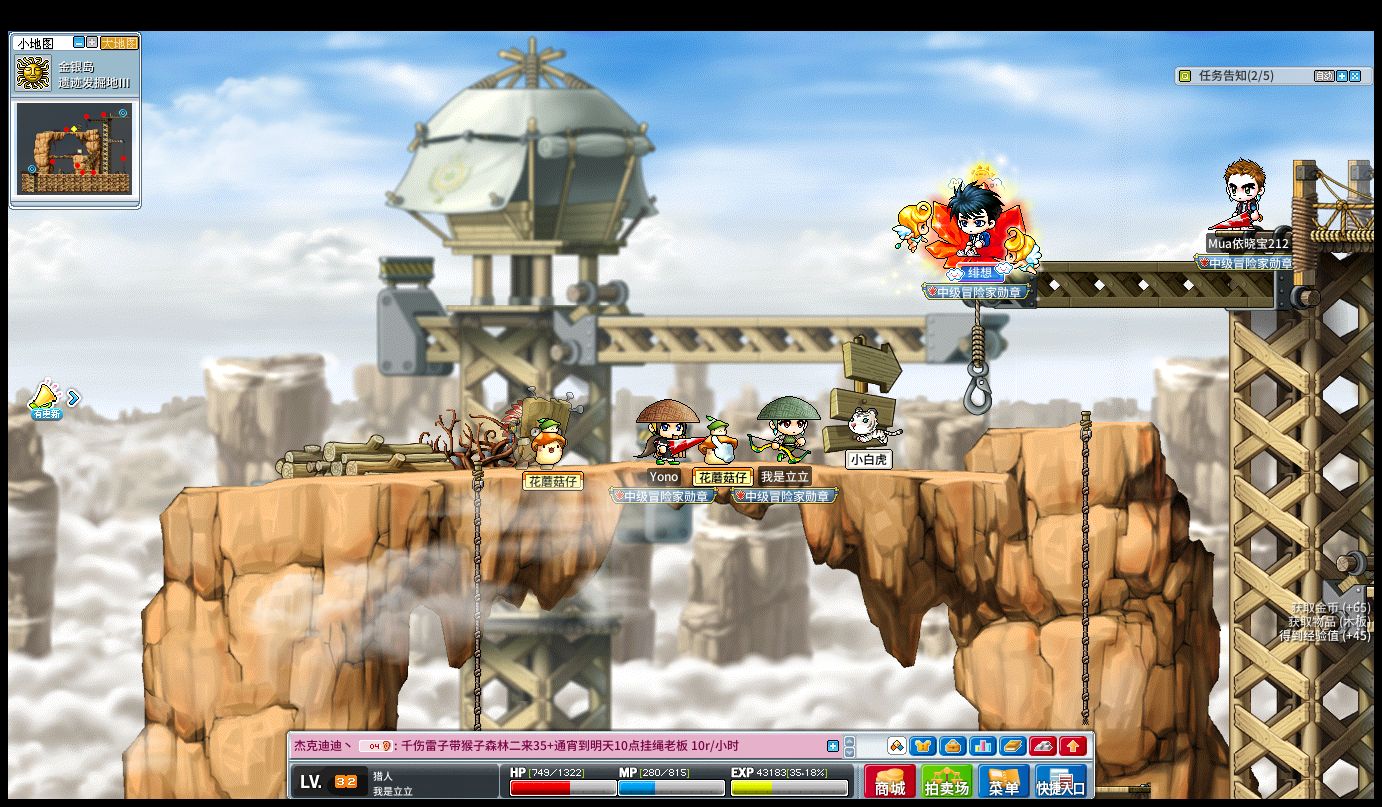floor: (181, 455, 1047, 482), (987, 417, 1156, 434), (985, 421, 1157, 436)
rope: (1076, 406, 1092, 721), (470, 459, 484, 678)
